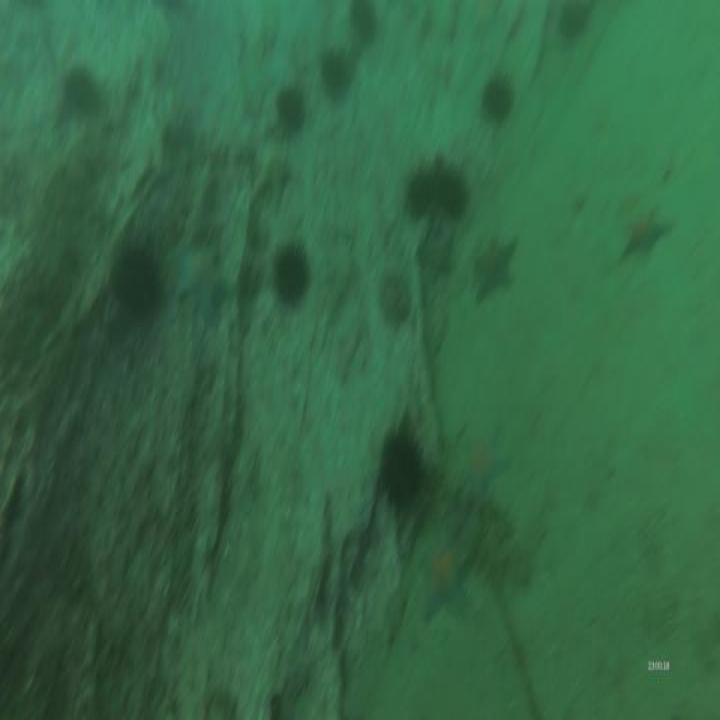echinus: (377, 429, 421, 503), (113, 251, 161, 311), (273, 249, 302, 299), (66, 70, 97, 115), (323, 52, 349, 98), (485, 74, 513, 116), (438, 171, 465, 213), (406, 170, 431, 212), (276, 87, 301, 128), (354, 0, 376, 41)
starfish: (418, 532, 466, 624), (462, 419, 510, 498), (181, 252, 235, 318), (472, 236, 516, 297), (623, 206, 671, 260), (416, 228, 454, 283)
